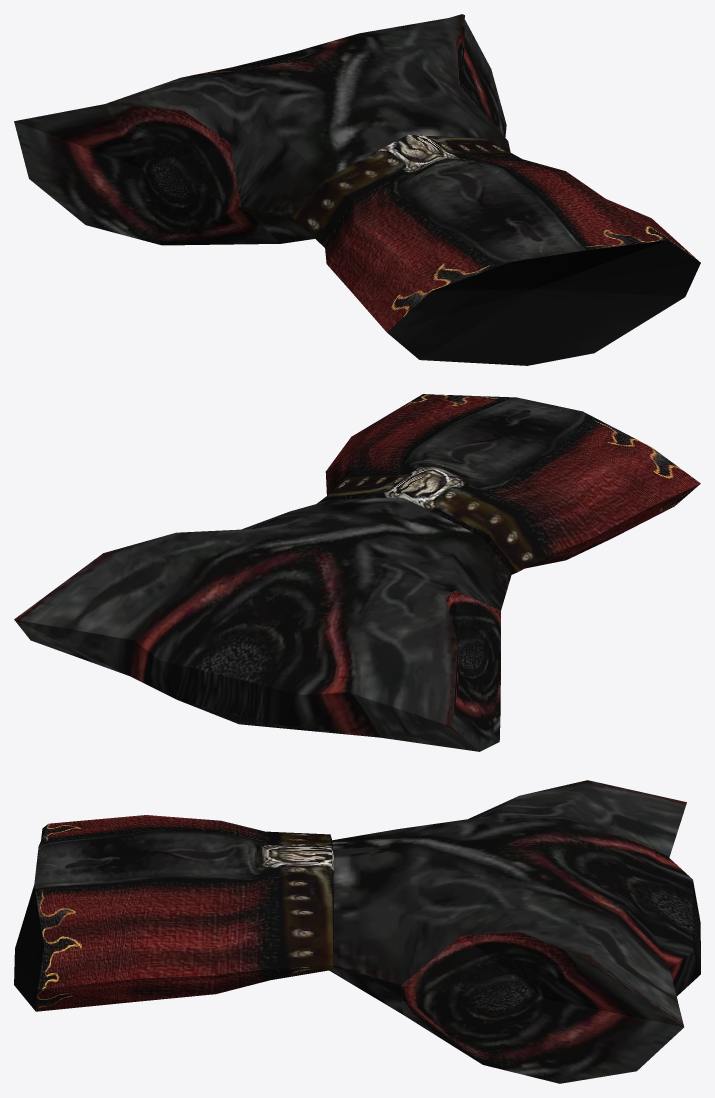
Rendered from ITAR_NOV_FIRE.glb.
3 renders of one model, top to bottom at view 1: azimuth 30°, elevation 25°; view 2: azimuth 150°, elevation 25°; view 3: azimuth 270°, elevation 25°, orthographic. The views are drawn at different scales.
Visible parts, largest first — view 1: ITAR_NOV_FIRE; view 2: ITAR_NOV_FIRE; view 3: ITAR_NOV_FIRE.
Boxes of the visible parts, x1=… form: ITAR_NOV_FIRE: x1=14, y1=14, x2=700, y2=365; ITAR_NOV_FIRE: x1=14, y1=394, x2=700, y2=751; ITAR_NOV_FIRE: x1=14, y1=780, x2=700, y2=1083.
Bounding box in the file's own units: 0.6586 × 0.1815 × 0.8286.
Materials: 1 (1 with a texture image).
